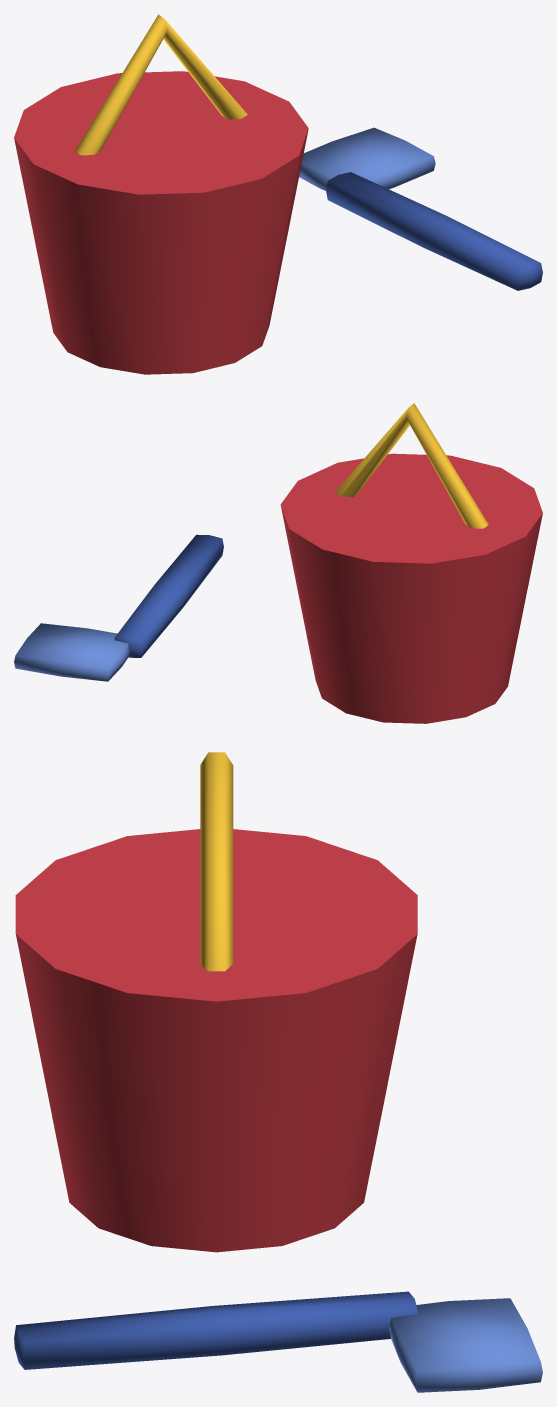
The model's file is bucket_spade.glb.
3 views of the same model, one above another, from view 1: azimuth 30°, elevation 25°; view 2: azimuth 150°, elevation 25°; view 3: azimuth 270°, elevation 25° (orthographic). The views are drawn at different scales.
Parts seen in each view (by area): view 1: root; view 2: root; view 3: root.
Boxes of the visible parts, <box> form: root: <box>14,14,542,374</box>; root: <box>14,403,542,723</box>; root: <box>14,752,542,1392</box>.
Size of the model in its own units: 0.5553 by 0.3504 by 0.385.
